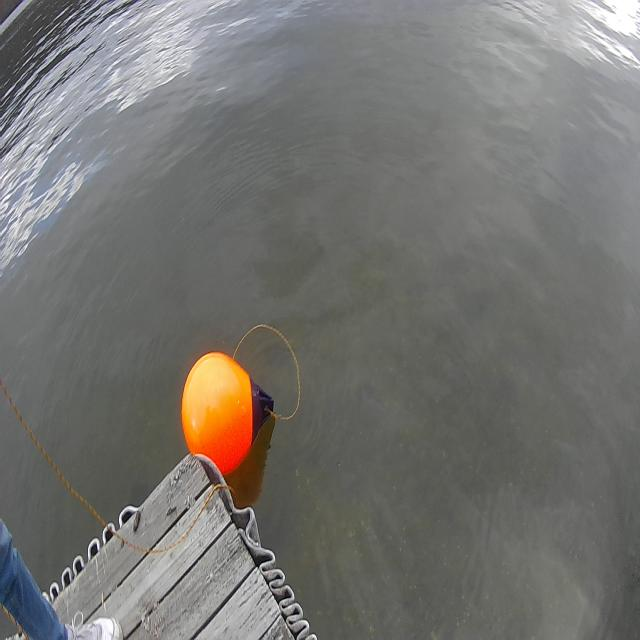Buoy: (174, 343, 274, 488)
